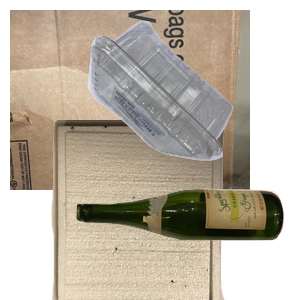cardboard: (10, 10, 250, 190)
glass: (74, 186, 300, 300)
plastic: (86, 18, 300, 171)
trash: (49, 120, 269, 300)
